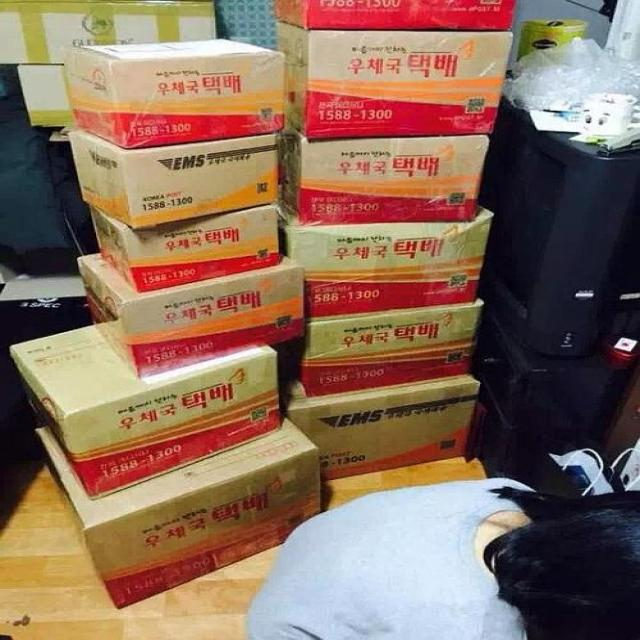box: (35, 414, 321, 609), (9, 324, 283, 500), (76, 253, 303, 379), (275, 20, 513, 139), (275, 205, 494, 318), (63, 38, 285, 148), (278, 370, 481, 481), (67, 128, 280, 229), (280, 128, 490, 225), (288, 298, 485, 397), (88, 203, 280, 294), (273, 0, 516, 31), (15, 64, 78, 126)
